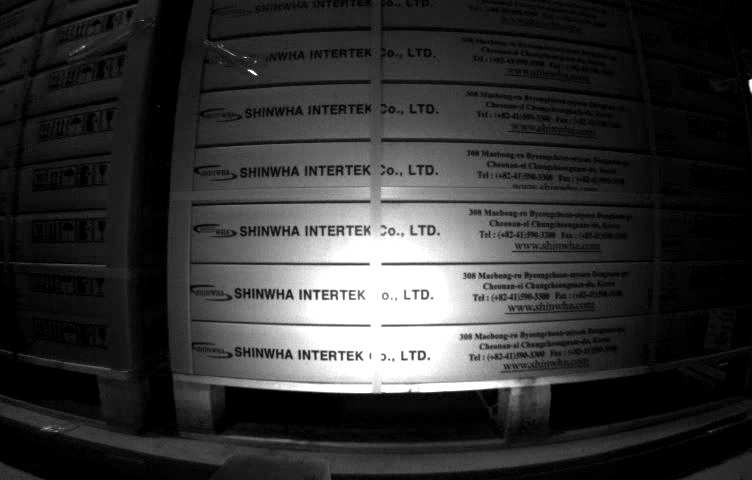True Barcode: (704, 308, 738, 345)
